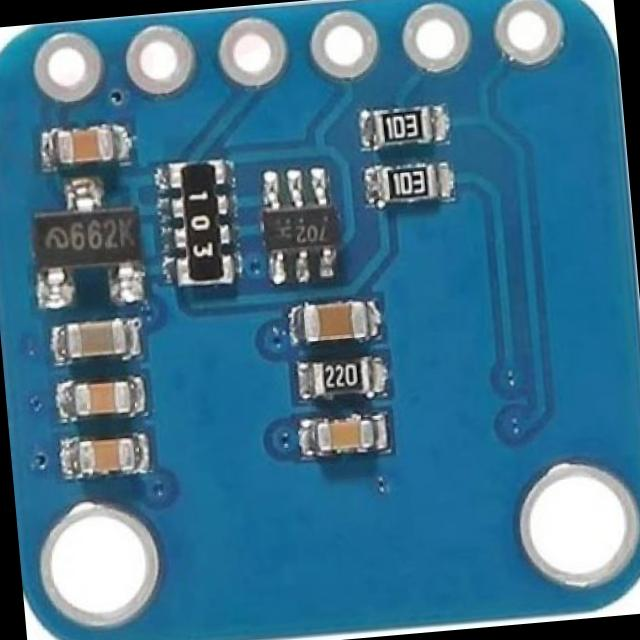IC: (262, 171, 344, 280)
capacitor: (300, 300, 372, 346), (68, 316, 134, 365), (312, 410, 382, 454), (83, 430, 140, 476), (62, 126, 123, 164), (78, 380, 134, 421)
resistor: (167, 159, 236, 282), (378, 165, 440, 207), (312, 357, 372, 395), (373, 110, 432, 147)
transistor: (33, 183, 144, 302)
